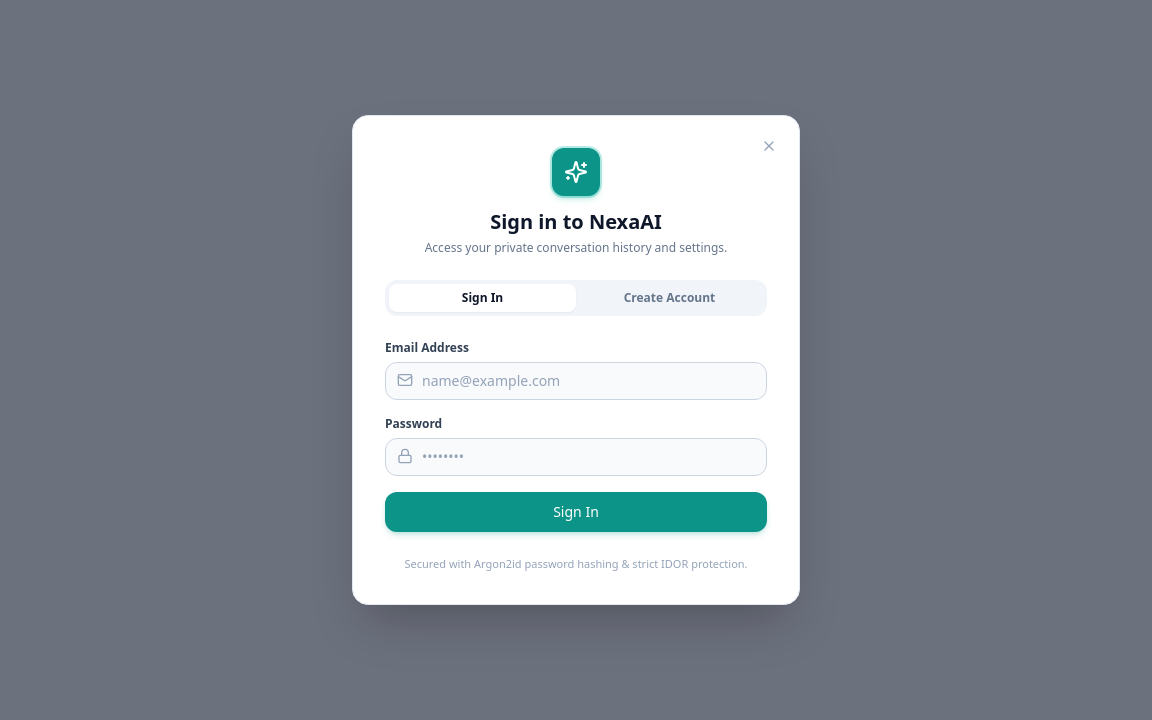
it: AuthModal Component › switches between Sign In and Create Account modes
Expected: the heading "Sign in to NexaAI" is shown, [490,208,662,235]
Step 1. Click the button "Create Account" → {"x": 670, "y": 298}, box [576,284,763,312]
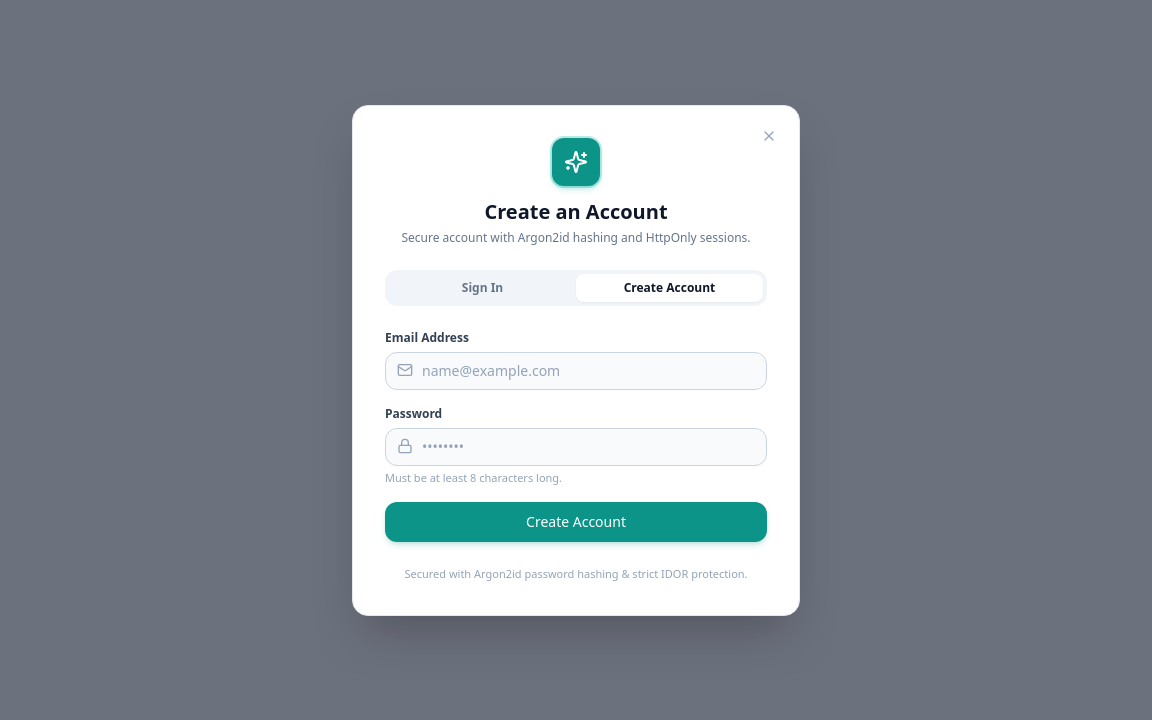
Expected: the heading "Create an Account" is shown, [484,198,668,224]
